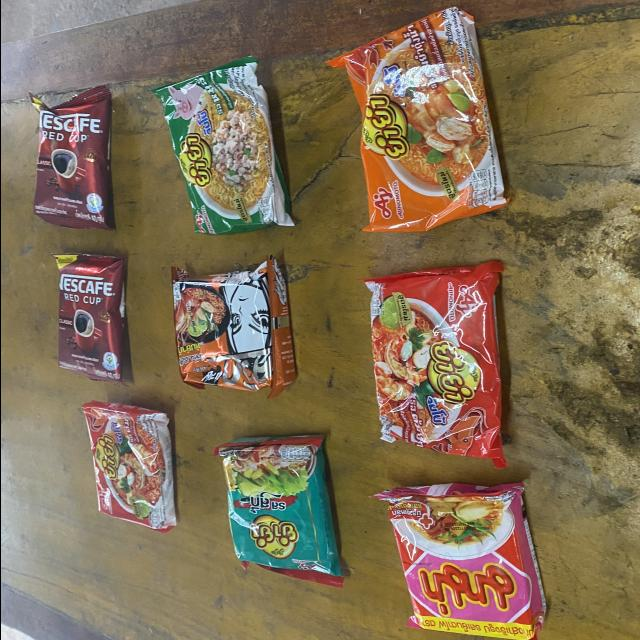plastik: (328, 8, 507, 232), (364, 260, 506, 467), (375, 484, 544, 640), (152, 57, 293, 235), (213, 436, 343, 587), (170, 255, 295, 399), (81, 401, 175, 533), (30, 86, 113, 230), (53, 254, 124, 384)
